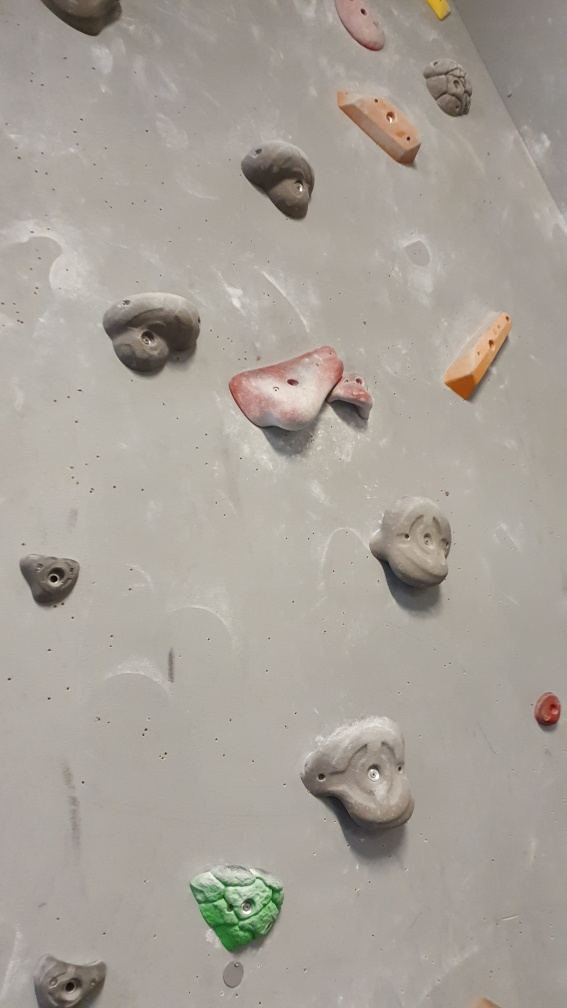Crimp: (16, 548, 86, 607)
Hand Start: (215, 953, 253, 996)
Jug: (299, 713, 419, 834), (98, 286, 210, 382), (368, 492, 456, 595), (238, 136, 321, 222)
Pinch: (439, 307, 520, 407), (331, 85, 423, 167)
